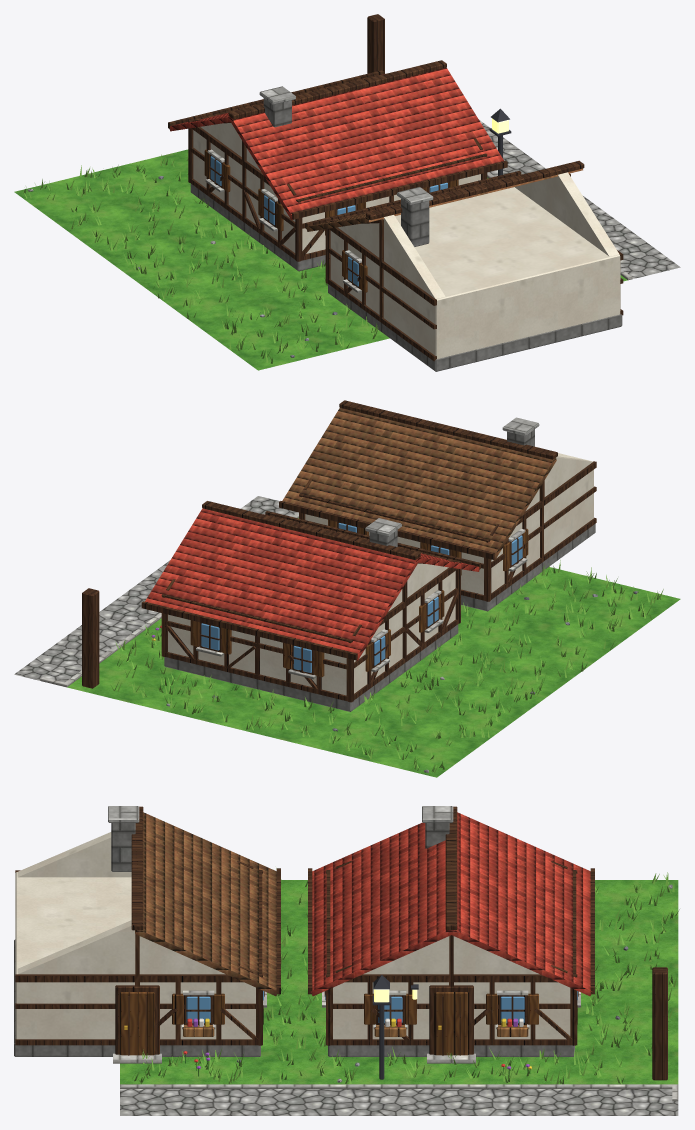
Rendered from chunk_5_9.glb.
3 renders of one model, top to bottom at view 1: azimuth 30°, elevation 25°; view 2: azimuth 150°, elevation 25°; view 3: azimuth 270°, elevation 25°, orthographic. The views are drawn at different scales.
Parts seen in each view (by area): view 1: chunk_5_9; view 2: chunk_5_9; view 3: chunk_5_9.
Part boxes in pixels (x1,y1,x2,y2): chunk_5_9: [14, 14, 680, 371]; chunk_5_9: [14, 400, 680, 777]; chunk_5_9: [14, 806, 679, 1115].
Bounding box in the file's own units: 16.19 × 4.99 × 19.12.
Materials: 23 (14 with a texture image).
